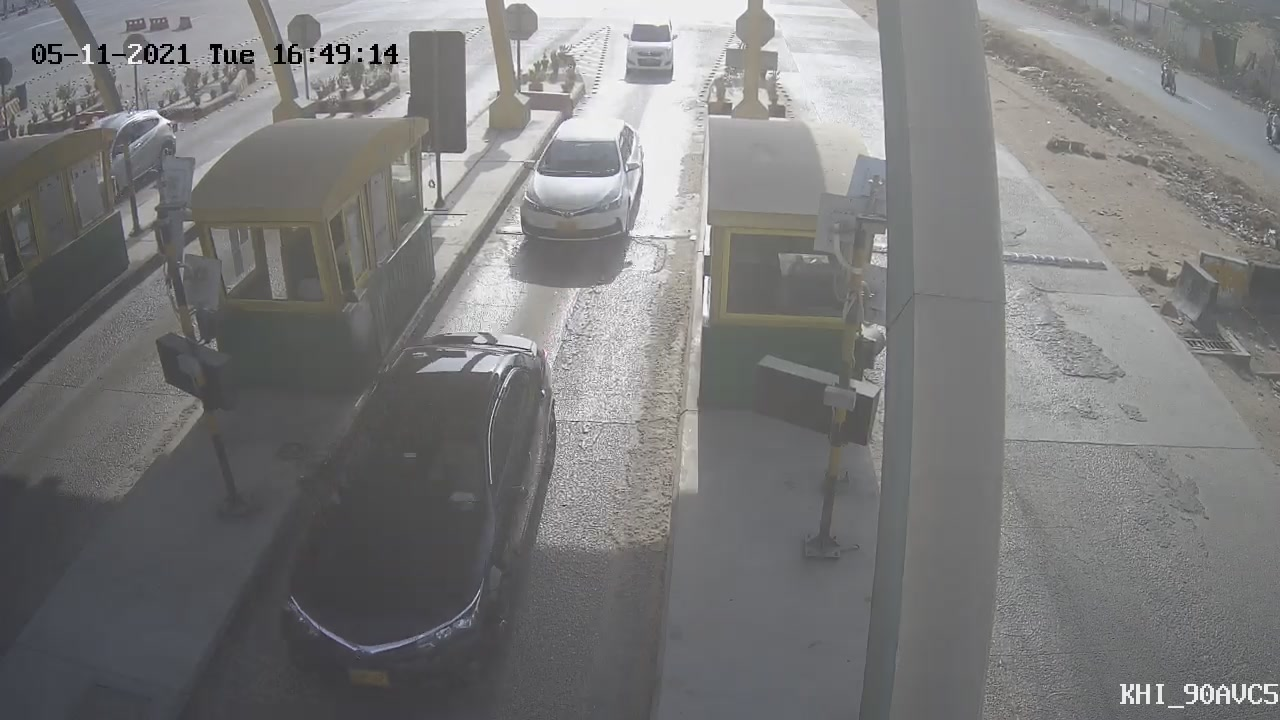F1: (500, 101, 664, 269)
